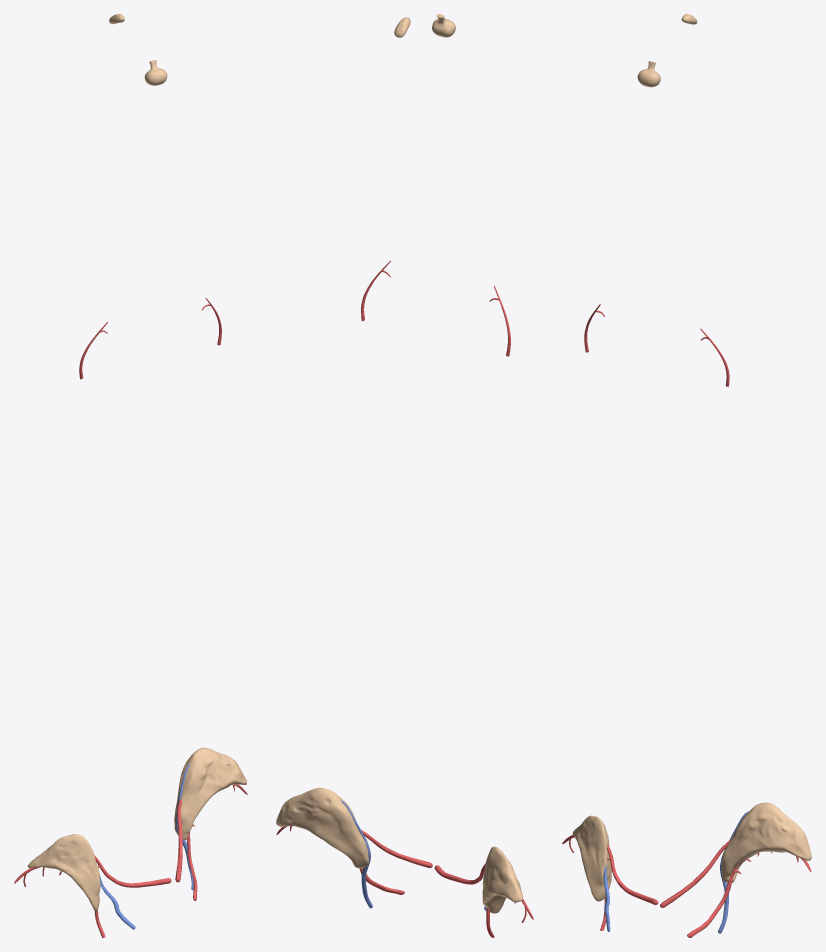
Rendered from endocrino.glb.
3 renders of one model, left to right at view 1: azimuth 30°, elevation 25°; view 2: azimuth 150°, elevation 25°; view 3: azimuth 330°, elevation 25°, orthographic. The views are drawn at different scales.
Visible parts, largest first — view 1: glandula-suprarrenal-i, glandula-suprarrenal-d; view 2: glandula-suprarrenal-i, glandula-suprarrenal-d; view 3: glandula-suprarrenal-i, glandula-suprarrenal-d.
Part boxes in pixels (x1,y1,x2,y2): glandula-suprarrenal-i: (174,747,246,840); glandula-suprarrenal-d: (27,834,100,911); glandula-suprarrenal-i: (276,787,368,868); glandula-suprarrenal-d: (482,846,522,913); glandula-suprarrenal-i: (721,802,811,882); glandula-suprarrenal-d: (572,815,611,901).
Size of the model in its own units: 0.1461 by 0.5176 by 0.0565.
